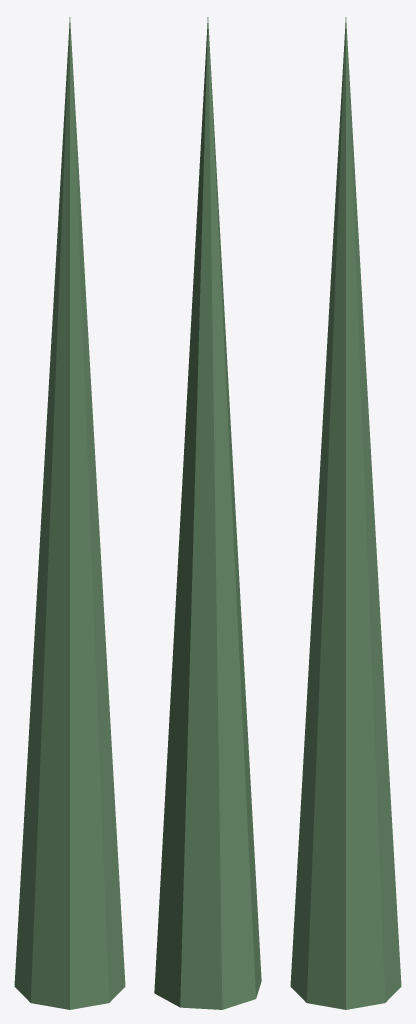
File: reeds.glb
3 views of the same model, side by side, from view 1: azimuth 90°, elevation 25°; view 2: azimuth 150°, elevation 25°; view 3: azimuth 270°, elevation 25° (orthographic).
Visible parts, largest first — view 1: reeds; view 2: reeds; view 3: reeds.
Boxes of the visible parts, <box> form: reeds: <box>14,17,125,1009</box>; reeds: <box>154,17,261,1009</box>; reeds: <box>290,17,401,1009</box>.
Bounding box in the file's own units: 0.15 × 1.45 × 0.15.
